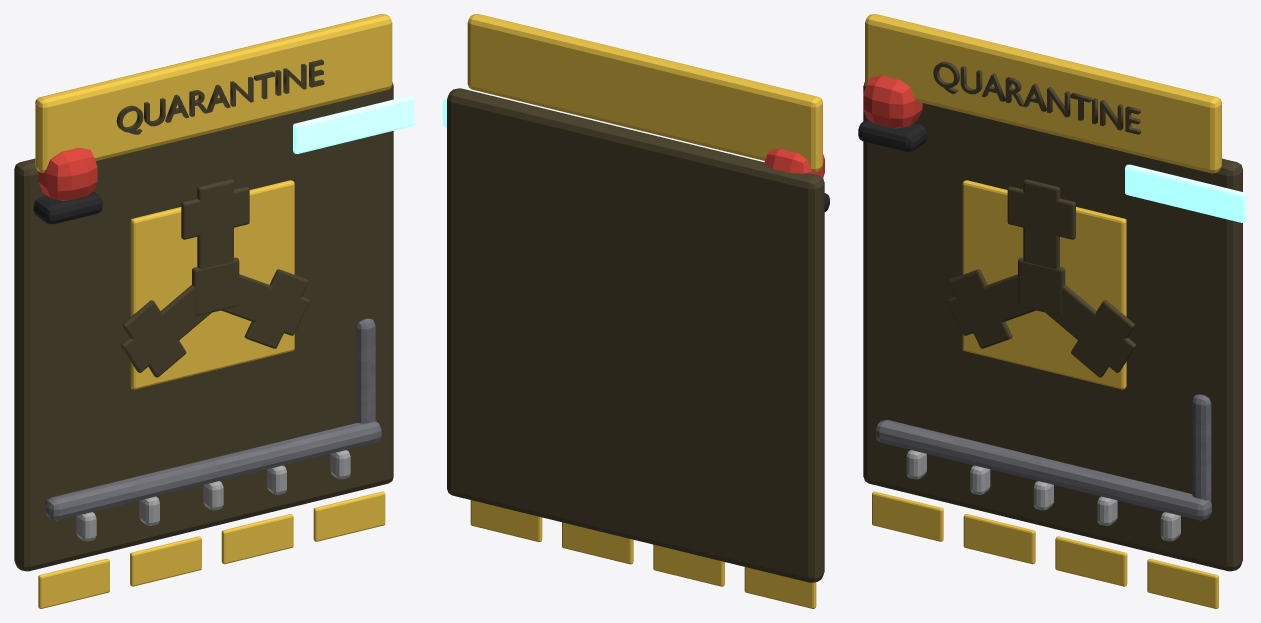
File: decor_med_quarantine_seal.glb
3 views of the same model, side by side, from view 1: azimuth 30°, elevation 25°; view 2: azimuth 150°, elevation 25°; view 3: azimuth 330°, elevation 25° (orthographic).
Visible parts, largest first — view 1: DEC_MedQuarantineSeal__Back_Plate, DEC_MedQuarantineSeal__Hazard_Header, DEC_MedQuarantineSeal__Trefoil_Plate, DEC_MedQuarantineSeal__Nozzle_Bar, DEC_MedQuarantineSeal__Seal_Readout, DEC_MedQuarantineSeal__Hazard_Text, DEC_MedQuarantineSeal__Trefoil_Blade_1, DEC_MedQuarantineSeal__Trefoil_Blade_2, DEC_MedQuarantineSeal__Trefoil_Blade_3, DEC_MedQuarantineSeal__Hazard_Chevron_4, DEC_MedQuarantineSeal__Hazard_Chevron_3, DEC_MedQuarantineSeal__Hazard_Chevron_2 (+12 smaller); view 2: DEC_MedQuarantineSeal__Back_Plate, DEC_MedQuarantineSeal__Hazard_Header, DEC_MedQuarantineSeal__Hazard_Chevron_1, DEC_MedQuarantineSeal__Hazard_Chevron_4, DEC_MedQuarantineSeal__Hazard_Chevron_2, DEC_MedQuarantineSeal__Hazard_Chevron_3, DEC_MedQuarantineSeal__Alarm_Lamp_Dome; view 3: DEC_MedQuarantineSeal__Back_Plate, DEC_MedQuarantineSeal__Hazard_Header, DEC_MedQuarantineSeal__Trefoil_Plate, DEC_MedQuarantineSeal__Nozzle_Bar, DEC_MedQuarantineSeal__Seal_Readout, DEC_MedQuarantineSeal__Hazard_Text, DEC_MedQuarantineSeal__Trefoil_Blade_1, DEC_MedQuarantineSeal__Trefoil_Blade_2, DEC_MedQuarantineSeal__Hazard_Chevron_2, DEC_MedQuarantineSeal__Hazard_Chevron_3, DEC_MedQuarantineSeal__Hazard_Chevron_1, DEC_MedQuarantineSeal__Hazard_Chevron_4 (+13 smaller).
Boxes of the visible parts, x1,y1,x2,y2 form: DEC_MedQuarantineSeal__Back_Plate: (14,82,393,571); DEC_MedQuarantineSeal__Hazard_Header: (35,14,392,172); DEC_MedQuarantineSeal__Trefoil_Plate: (130,180,294,389); DEC_MedQuarantineSeal__Nozzle_Bar: (45,421,381,520); DEC_MedQuarantineSeal__Seal_Readout: (293,95,414,153); DEC_MedQuarantineSeal__Hazard_Text: (116,59,324,134); DEC_MedQuarantineSeal__Trefoil_Blade_1: (197,179,233,269); DEC_MedQuarantineSeal__Trefoil_Blade_2: (121,285,211,372); DEC_MedQuarantineSeal__Trefoil_Blade_3: (221,274,309,335); DEC_MedQuarantineSeal__Hazard_Chevron_4: (313,491,385,541); DEC_MedQuarantineSeal__Hazard_Chevron_3: (221,514,293,564); DEC_MedQuarantineSeal__Hazard_Chevron_2: (130,536,201,586); DEC_MedQuarantineSeal__Back_Plate: (447,88,824,582); DEC_MedQuarantineSeal__Hazard_Header: (467,14,822,172); DEC_MedQuarantineSeal__Hazard_Chevron_1: (744,567,816,608); DEC_MedQuarantineSeal__Hazard_Chevron_4: (470,500,542,541); DEC_MedQuarantineSeal__Hazard_Chevron_2: (653,544,724,586); DEC_MedQuarantineSeal__Hazard_Chevron_3: (562,522,633,564); DEC_MedQuarantineSeal__Alarm_Lamp_Dome: (764,148,824,177); DEC_MedQuarantineSeal__Back_Plate: (863,82,1242,571); DEC_MedQuarantineSeal__Hazard_Header: (865,14,1221,173); DEC_MedQuarantineSeal__Trefoil_Plate: (962,180,1126,389); DEC_MedQuarantineSeal__Nozzle_Bar: (875,420,1211,520); DEC_MedQuarantineSeal__Seal_Readout: (1125,164,1246,222); DEC_MedQuarantineSeal__Hazard_Text: (933,61,1140,134); DEC_MedQuarantineSeal__Trefoil_Blade_1: (1023,179,1060,269); DEC_MedQuarantineSeal__Trefoil_Blade_2: (947,274,1035,335); DEC_MedQuarantineSeal__Hazard_Chevron_2: (963,514,1035,564); DEC_MedQuarantineSeal__Hazard_Chevron_3: (1055,536,1127,586); DEC_MedQuarantineSeal__Hazard_Chevron_1: (872,491,943,541); DEC_MedQuarantineSeal__Hazard_Chevron_4: (1147,558,1218,608).
Bounding box in the file's own units: 1.1 × 1.39 × 0.15.
Materials: 7 (3 with a texture image).
